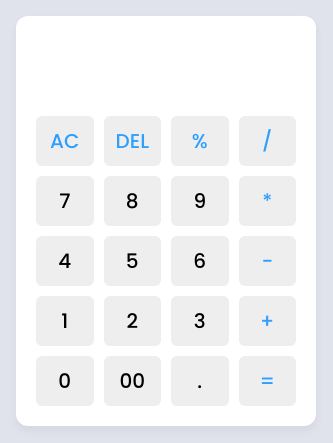
Test: App Component › deletes the last character when DEL is clicked
Click the button "1": (65, 321) [36,296,94,346]
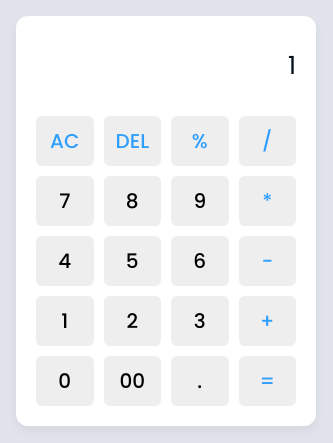
Click the button "2": (132, 321) [104,296,161,346]
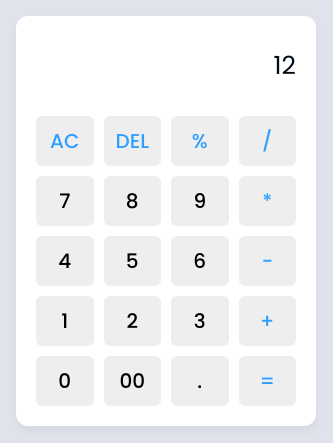
Click the button "DEL": (132, 141) [104,116,161,166]
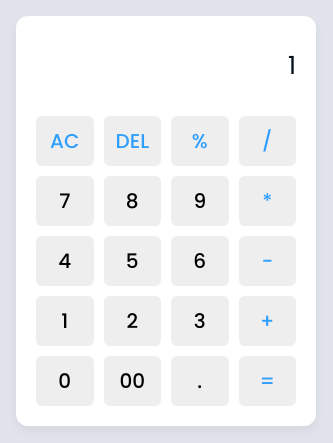
Check: the field holds "1", box [36,26,296,106]
